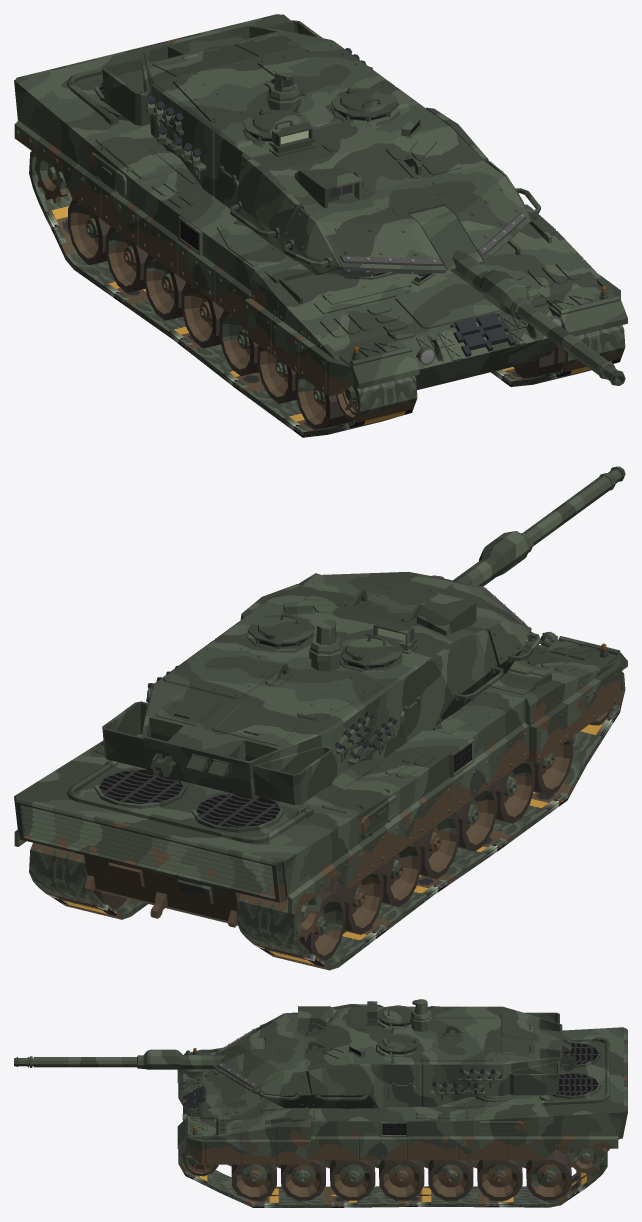
The model's file is SM_Veh_Tank_German_01.fbx.
3 views of the same model, one above another, from view 1: azimuth 30°, elevation 25°; view 2: azimuth 150°, elevation 25°; view 3: azimuth 270°, elevation 25° (orthographic). The views are drawn at different scales.
Visible parts, largest first — view 1: SM_Veh_Tank_German_01, SM_Veh_Tank_German_01_Turret, SM_Veh_Tank_German_Track_R, SM_Veh_Tank_German_01_Turret_Barrel, SM_Veh_Tank_German_Track_L, SM_Veh_Tank_German_Track_Wheel_R_05, SM_Veh_Tank_German_Track_Wheel_R_06, SM_Veh_Tank_German_Track_Wheel_R_07, SM_Veh_Tank_German_Track_Wheel_R_08, SM_Veh_Tank_German_Track_Wheel_R_04, SM_Veh_Tank_German_Track_Wheel_R_02, SM_Veh_Tank_German_Track_Wheel_R_03 (+4 smaller); view 2: SM_Veh_Tank_German_01, SM_Veh_Tank_German_01_Turret, SM_Veh_Tank_German_Track_R, SM_Veh_Tank_German_01_Turret_Barrel, SM_Veh_Tank_German_Track_L, SM_Veh_Tank_German_Track_Wheel_R_07, SM_Veh_Tank_German_Track_Wheel_R_04, SM_Veh_Tank_German_Track_Wheel_R_05, SM_Veh_Tank_German_Track_Wheel_R_06, SM_Veh_Tank_German_Track_Wheel_R_03, SM_Veh_Tank_German_Track_Wheel_R_08, SM_Veh_Tank_German_Track_Wheel_R_02 (+3 smaller); view 3: SM_Veh_Tank_German_01, SM_Veh_Tank_German_01_Turret, SM_Veh_Tank_German_Track_L, SM_Veh_Tank_German_01_Turret_Barrel, SM_Veh_Tank_German_Track_Wheel_L_08, SM_Veh_Tank_German_Track_Wheel_L_07, SM_Veh_Tank_German_Track_Wheel_L_06, SM_Veh_Tank_German_Track_Wheel_L_05, SM_Veh_Tank_German_Track_Wheel_L_04, SM_Veh_Tank_German_Track_Wheel_L_03, SM_Veh_Tank_German_Track_Wheel_L_02, SM_Veh_Tank_German_Track_Wheel_L_09 (+3 smaller).
Boxes of the visible parts, x1=… form: SM_Veh_Tank_German_01: x1=14, y1=14, x2=627, y2=396; SM_Veh_Tank_German_01_Turret: x1=102, y1=20, x2=540, y2=276; SM_Veh_Tank_German_Track_R: x1=29, y1=151, x2=417, y2=437; SM_Veh_Tank_German_01_Turret_Barrel: x1=409, y1=206, x2=625, y2=385; SM_Veh_Tank_German_Track_L: x1=491, y1=325, x2=625, y2=386; SM_Veh_Tank_German_Track_Wheel_R_05: x1=181, y1=282, x2=224, y2=348; SM_Veh_Tank_German_Track_Wheel_R_06: x1=143, y1=254, x2=185, y2=320; SM_Veh_Tank_German_Track_Wheel_R_07: x1=105, y1=226, x2=148, y2=292; SM_Veh_Tank_German_Track_Wheel_R_08: x1=67, y1=199, x2=110, y2=265; SM_Veh_Tank_German_Track_Wheel_R_04: x1=219, y1=310, x2=258, y2=376; SM_Veh_Tank_German_Track_Wheel_R_02: x1=295, y1=373, x2=352, y2=429; SM_Veh_Tank_German_Track_Wheel_R_03: x1=257, y1=345, x2=296, y2=403; SM_Veh_Tank_German_01: x1=14, y1=631, x2=627, y2=927; SM_Veh_Tank_German_01_Turret: x1=102, y1=572, x2=540, y2=805; SM_Veh_Tank_German_Track_R: x1=237, y1=672, x2=625, y2=970; SM_Veh_Tank_German_01_Turret_Barrel: x1=409, y1=466, x2=625, y2=590; SM_Veh_Tank_German_Track_L: x1=29, y1=842, x2=147, y2=919; SM_Veh_Tank_German_Track_Wheel_R_07: x1=324, y1=868, x2=383, y2=934; SM_Veh_Tank_German_Track_Wheel_R_04: x1=454, y1=784, x2=497, y2=851; SM_Veh_Tank_German_Track_Wheel_R_05: x1=417, y1=812, x2=459, y2=879; SM_Veh_Tank_German_Track_Wheel_R_06: x1=379, y1=840, x2=421, y2=906; SM_Veh_Tank_German_Track_Wheel_R_03: x1=492, y1=760, x2=535, y2=823; SM_Veh_Tank_German_Track_Wheel_R_08: x1=299, y1=890, x2=345, y2=960; SM_Veh_Tank_German_Track_Wheel_R_02: x1=533, y1=737, x2=573, y2=795; SM_Veh_Tank_German_01: x1=177, y1=1027, x2=627, y2=1168; SM_Veh_Tank_German_01_Turret: x1=214, y1=999, x2=575, y2=1108; SM_Veh_Tank_German_Track_L: x1=178, y1=1148, x2=607, y2=1207; SM_Veh_Tank_German_01_Turret_Barrel: x1=14, y1=1037, x2=265, y2=1069; SM_Veh_Tank_German_Track_Wheel_L_08: x1=526, y1=1150, x2=571, y2=1200; SM_Veh_Tank_German_Track_Wheel_L_07: x1=477, y1=1160, x2=522, y2=1200; SM_Veh_Tank_German_Track_Wheel_L_06: x1=428, y1=1160, x2=473, y2=1200; SM_Veh_Tank_German_Track_Wheel_L_05: x1=379, y1=1160, x2=424, y2=1200; SM_Veh_Tank_German_Track_Wheel_L_04: x1=330, y1=1160, x2=375, y2=1200; SM_Veh_Tank_German_Track_Wheel_L_03: x1=281, y1=1160, x2=325, y2=1200; SM_Veh_Tank_German_Track_Wheel_L_02: x1=231, y1=1164, x2=276, y2=1200; SM_Veh_Tank_German_Track_Wheel_L_09: x1=566, y1=1148, x2=603, y2=1175.
Size of the model in its own units: 378 by 299 by 1056.
